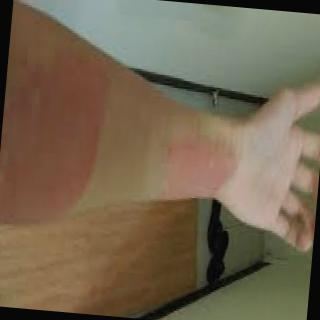urticaria: (20, 27, 74, 197), (170, 133, 230, 190)
